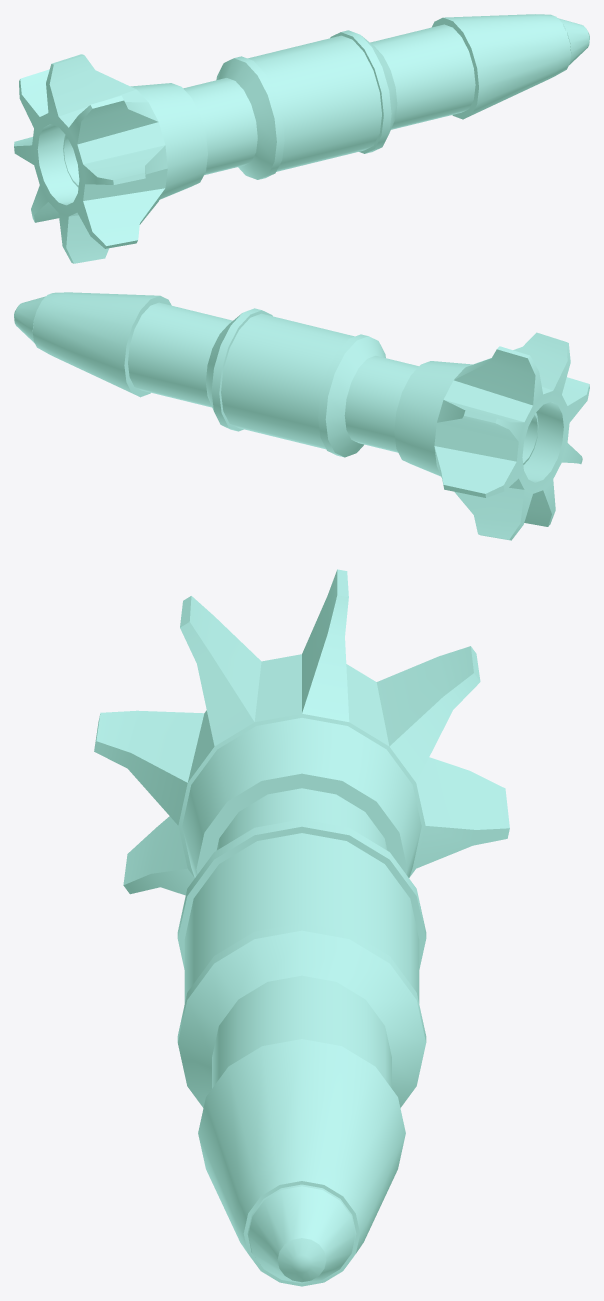
Rendered from rocket.glb.
The picture shows the model from 3 angles, top to bottom: view 1: azimuth 30°, elevation 25°; view 2: azimuth 150°, elevation 25°; view 3: azimuth 270°, elevation 25°; orthographic projection. The views are drawn at different scales.
Visible parts, largest first — view 1: Rocket; view 2: Rocket; view 3: Rocket.
Boxes of the visible parts, left/top/right/bottom form: Rocket: left=14, top=14, right=589, bottom=263; Rocket: left=14, top=292, right=589, bottom=540; Rocket: left=94, top=569, right=509, bottom=1286.
Bounding box in the file's own units: 0.8993 × 0.3052 × 0.3052.
